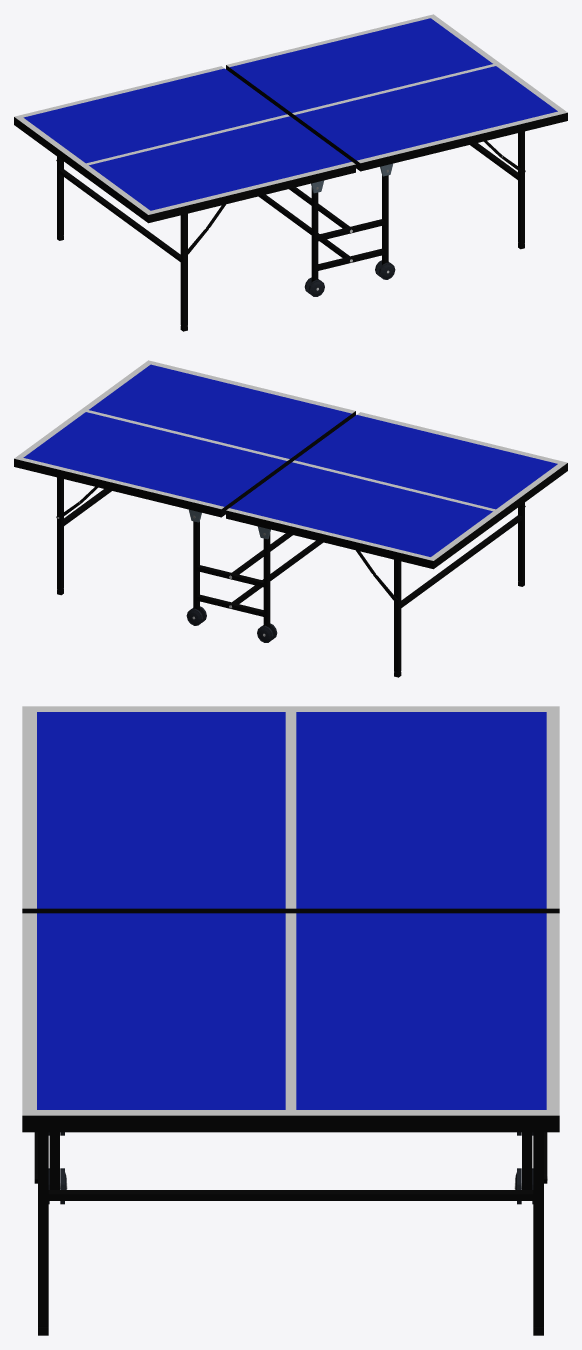
Rendered from tabletennis_table.obj.
3 renders of one model, top to bottom at view 1: azimuth 30°, elevation 25°; view 2: azimuth 150°, elevation 25°; view 3: azimuth 270°, elevation 25°, orthographic. The views are drawn at different scales.
Visible parts, largest first — view 1: bolttab2; view 2: bolttab2; view 3: bolttab2.
Part boxes in pixels (x1=…): bolttab2: x1=14, y1=14, x2=567, y2=331; bolttab2: x1=14, y1=360, x2=567, y2=677; bolttab2: x1=22, y1=706, x2=559, y2=1335.
Bounding box in the file's own units: 2.74 × 0.8048 × 1.52.
